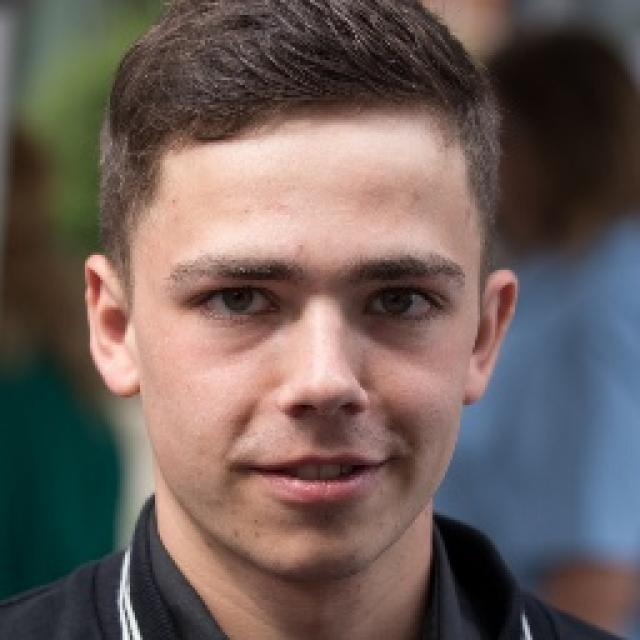earlobe: (102, 347, 142, 398), (460, 359, 492, 405)
eye: (193, 286, 283, 323), (366, 284, 443, 321)
nose: (279, 401, 371, 445)
wholeear: (85, 255, 143, 398), (461, 269, 518, 405)
